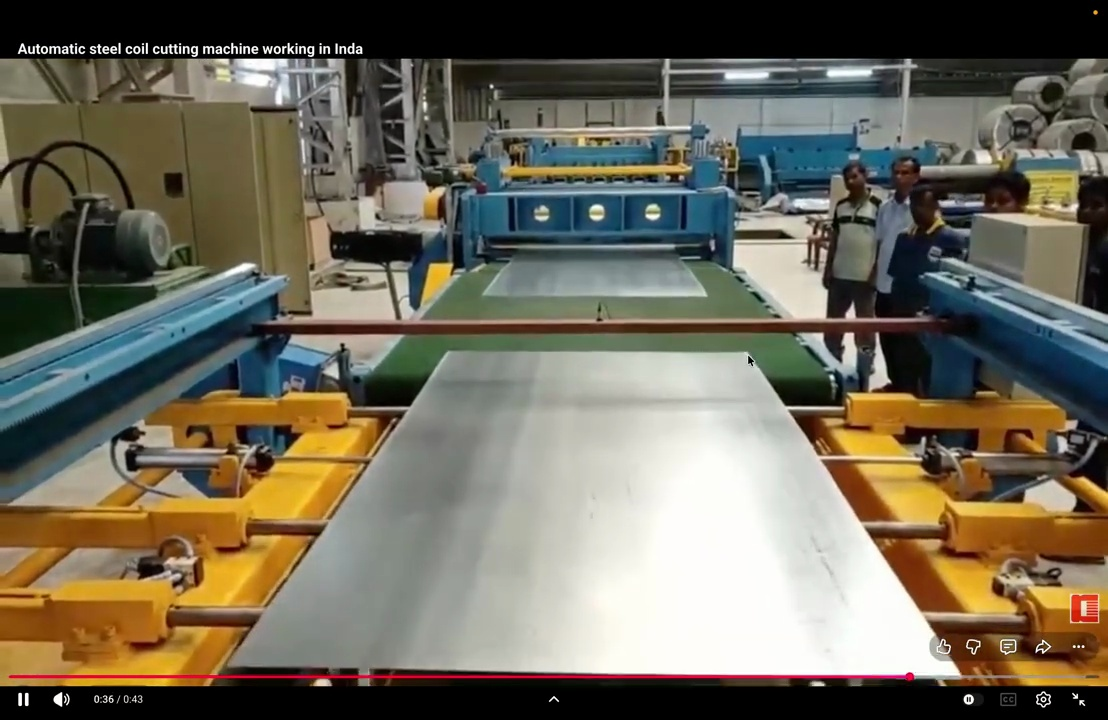steel plate: (230, 352, 951, 675), (483, 249, 705, 297)
